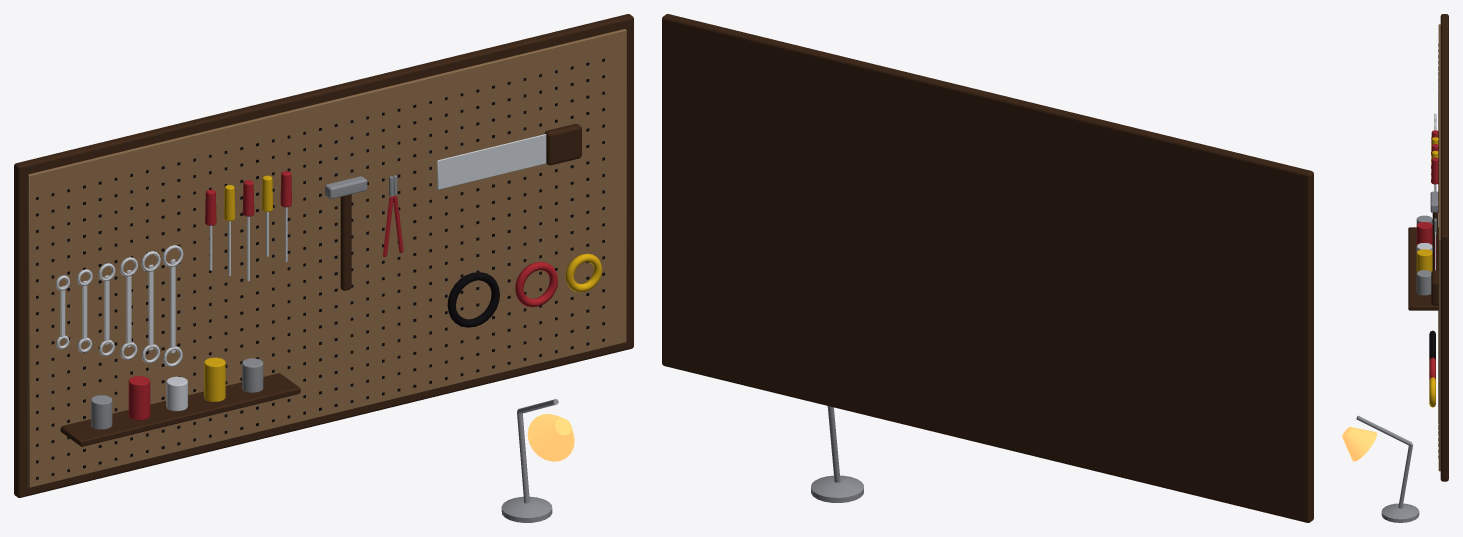
File: pegboard.glb
3 renders of one model, left to right at view 1: azimuth 30°, elevation 25°; view 2: azimuth 150°, elevation 25°; view 3: azimuth 270°, elevation 25°, orthographic. The views are drawn at different scales.
Parts seen in each view (by area): view 1: pegboard_pegboard, pegboard_woodDark, pegboard_chrome, pegboard_black, pegboard_steel, pegboard_toolRed, pegboard_toolYellow, pegboard_shade; view 2: pegboard_woodDark, pegboard_steel; view 3: pegboard_woodDark, pegboard_steel, pegboard_pegboard, pegboard_toolRed, pegboard_shade, pegboard_toolYellow, pegboard_black, pegboard_chrome.
Boxes of the visible parts, box(x1,y1,x2,y2) form: pegboard_pegboard: box(27, 29, 626, 487); pegboard_woodDark: box(14, 14, 633, 497); pegboard_chrome: box(55, 134, 546, 411); pegboard_black: box(36, 58, 604, 479); pegboard_steel: box(91, 175, 558, 522); pegboard_toolRed: box(128, 171, 557, 420); pegboard_toolYellow: box(204, 175, 602, 401); pegboard_shade: box(527, 414, 574, 461); pegboard_woodDark: box(662, 14, 1313, 522); pegboard_steel: box(811, 406, 863, 502); pegboard_woodDark: box(1408, 14, 1448, 481); pegboard_steel: box(1356, 191, 1438, 522); pegboard_pegboard: box(1438, 24, 1440, 471); pegboard_toolRed: box(1416, 130, 1438, 379); pegboard_shade: box(1342, 427, 1376, 461); pegboard_toolYellow: box(1416, 137, 1438, 407); pegboard_black: box(1429, 44, 1438, 457); pegboard_chrome: box(1416, 113, 1436, 270).
Bounding box in the file's own units: 1.96 × 1.35 × 0.3967.
